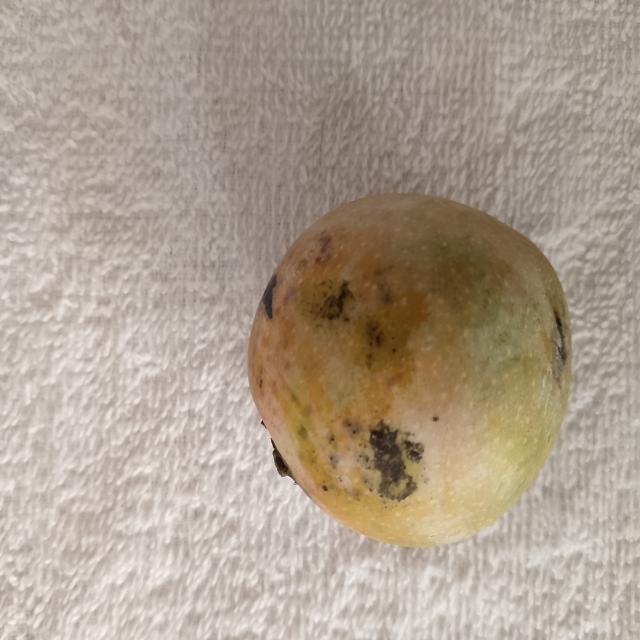mango: (249, 195, 571, 546)
